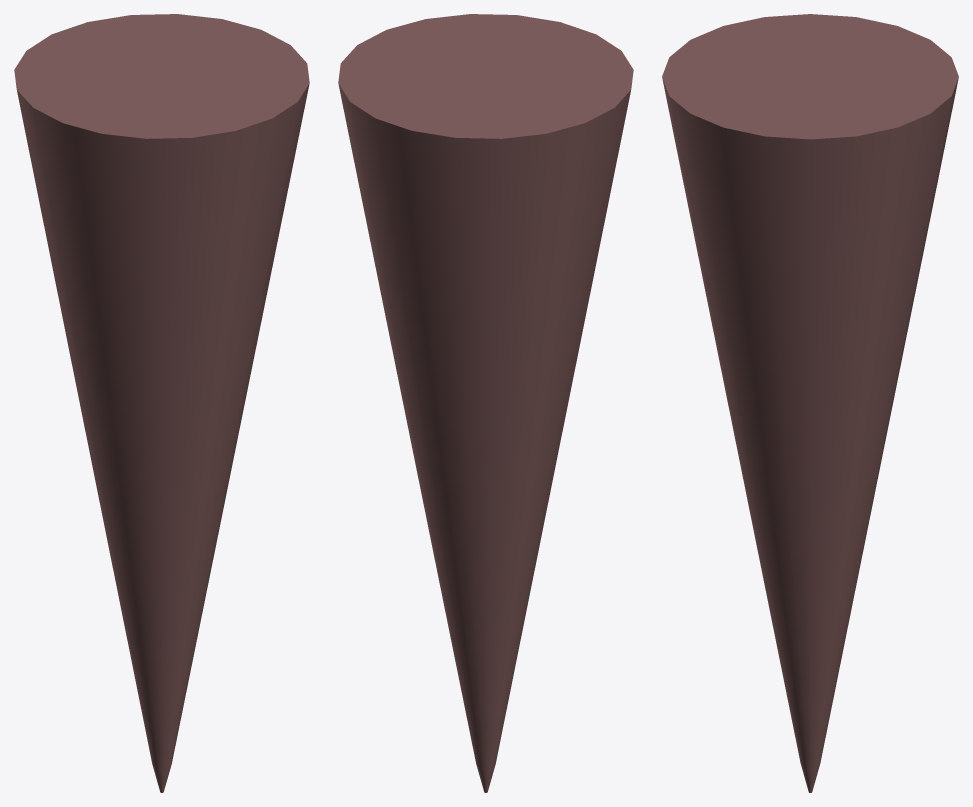
Rendered from sm_downspike.fbx.
3 renders of one model, left to right at view 1: azimuth 30°, elevation 25°; view 2: azimuth 150°, elevation 25°; view 3: azimuth 270°, elevation 25°, orthographic.
Parts seen in each view (by area): view 1: sm_spike; view 2: sm_spike; view 3: sm_spike.
Boxes of the visible parts, <box> form: sm_spike: <box>14,14,309,792</box>; sm_spike: <box>338,14,633,792</box>; sm_spike: <box>662,14,958,792</box>.
Size of the model in its own units: 30.63 by 81.42 by 30.63.
